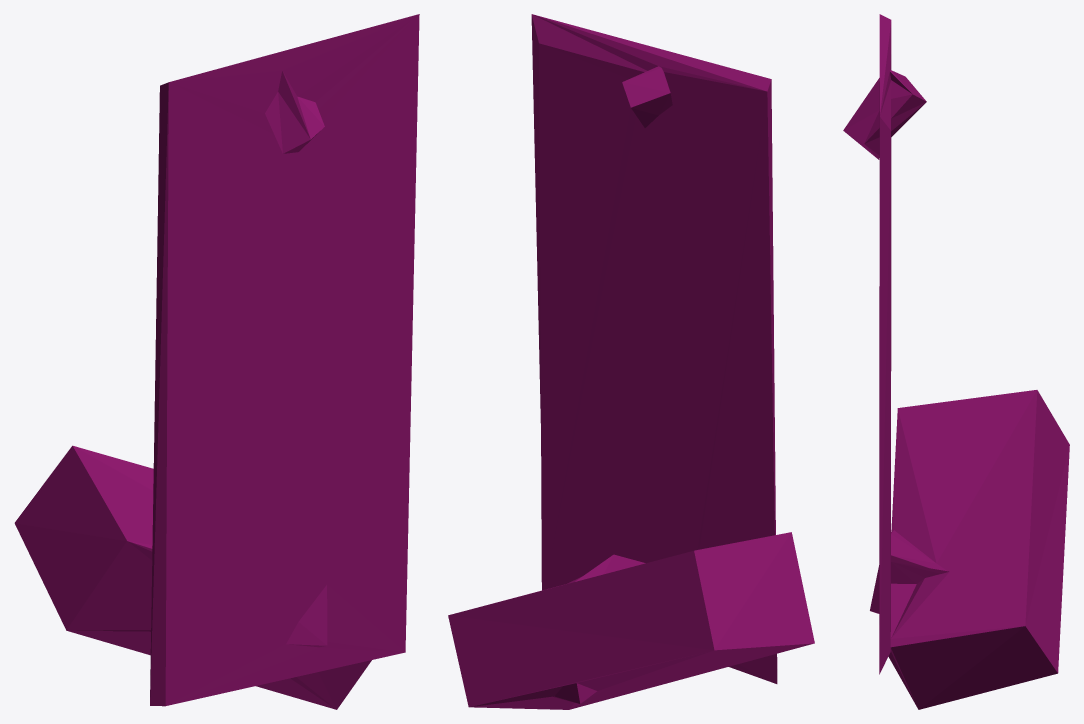
3 renders of one model, left to right at view 1: azimuth 30°, elevation 25°; view 2: azimuth 150°, elevation 25°; view 3: azimuth 270°, elevation 25°, orthographic. The views are drawn at different scales.
Visible parts, largest first — view 1: 179_Cube.743; view 2: 179_Cube.743; view 3: 179_Cube.743.
Part boxes in pixels (x1,y1,x2,y2): 179_Cube.743: (14, 14, 419, 709); 179_Cube.743: (448, 14, 814, 709); 179_Cube.743: (843, 14, 1069, 709).
Bounding box in the file's own units: 6.75 × 13.62 × 4.52.
